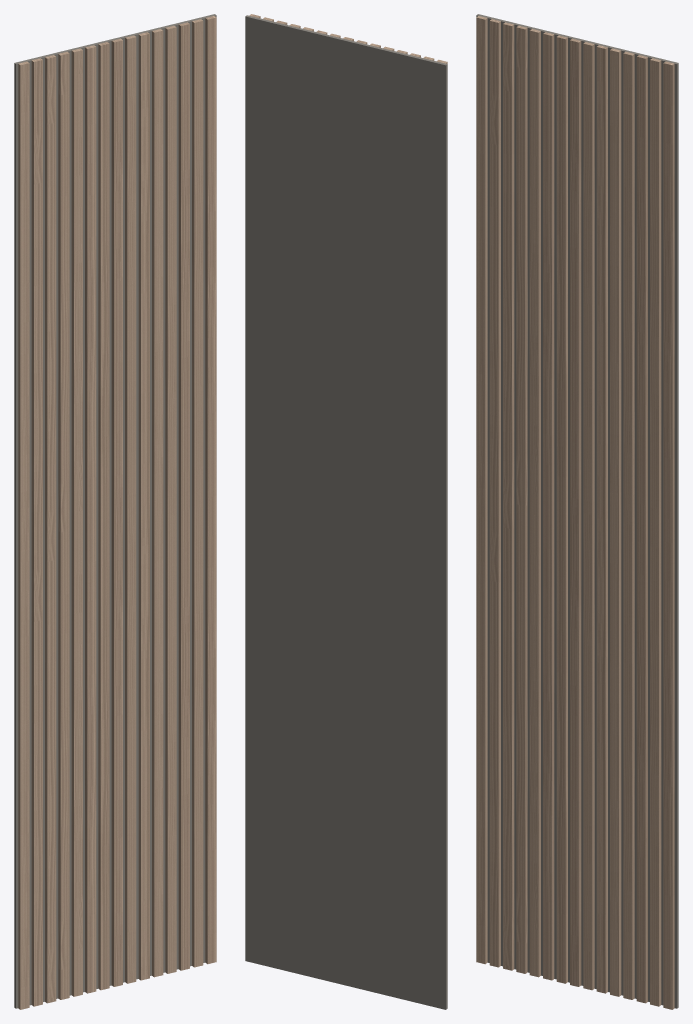
File: panel-classic-washed-oak.glb
3 views of the same model, side by side, from view 1: azimuth 30°, elevation 25°; view 2: azimuth 150°, elevation 25°; view 3: azimuth 330°, elevation 25° (orthographic).
Parts seen in each view (by area): view 1: Lamellen-Wandpaneel classic washed-oak; view 2: Lamellen-Wandpaneel classic washed-oak; view 3: Lamellen-Wandpaneel classic washed-oak.
Part boxes in pixels (x1,y1,x2,y2): Lamellen-Wandpaneel classic washed-oak: [14, 14, 216, 1009]; Lamellen-Wandpaneel classic washed-oak: [245, 14, 447, 1009]; Lamellen-Wandpaneel classic washed-oak: [476, 14, 678, 1009].
Bounding box in the file's own units: 0.6 × 2.7 × 0.021.
2 materials, 1 textured.
